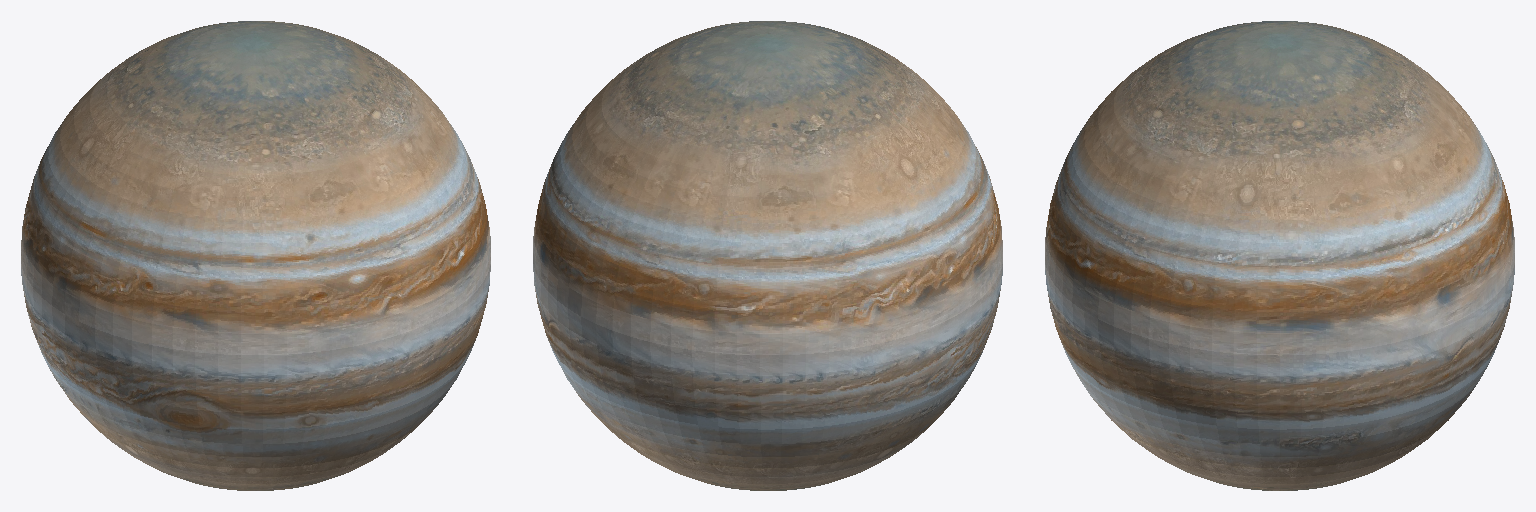
The picture shows the model from 3 angles: view 1: azimuth 30°, elevation 25°; view 2: azimuth 150°, elevation 25°; view 3: azimuth 270°, elevation 25°; orthographic projection.
Visible parts, largest first — view 1: Sphere002; view 2: Sphere002; view 3: Sphere002.
Boxes of the visible parts, x1=… form: Sphere002: x1=21, y1=21, x2=490, y2=490; Sphere002: x1=533, y1=21, x2=1002, y2=490; Sphere002: x1=1045, y1=21, x2=1514, y2=490.
Size of the model in its own units: 702 by 702 by 702.
Materials: 2 (1 with a texture image).